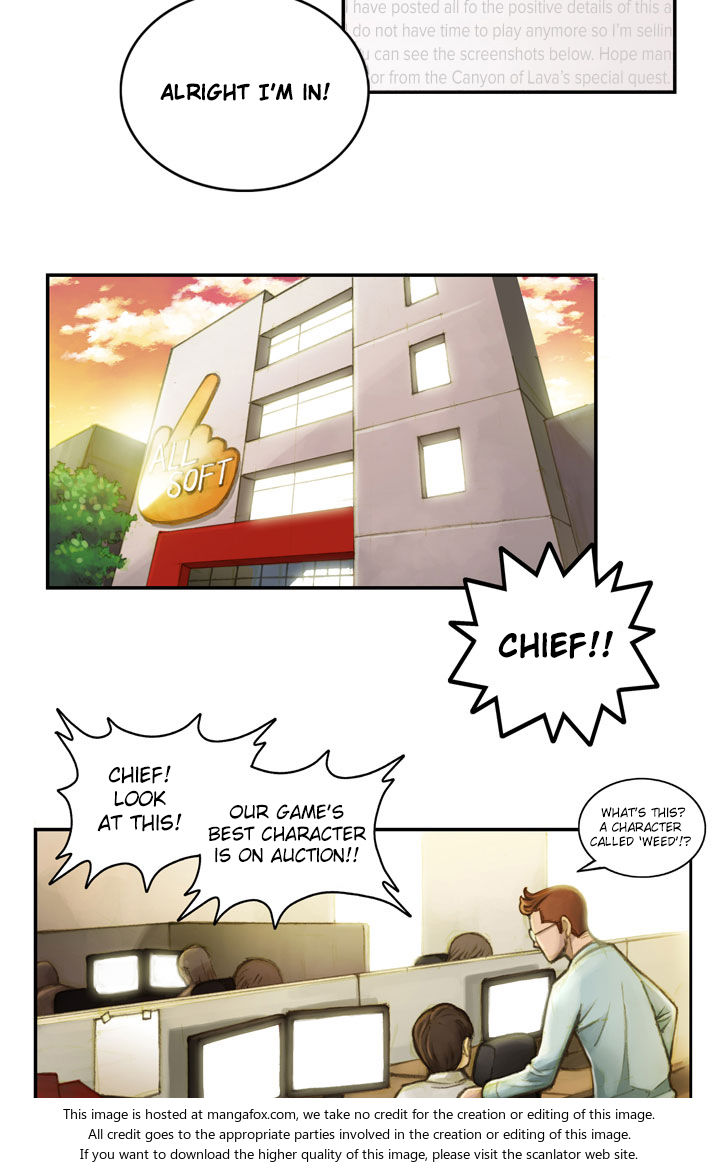bubble: (119, 0, 369, 191), (179, 750, 412, 929), (452, 544, 658, 745), (50, 710, 276, 892), (578, 779, 706, 877)
